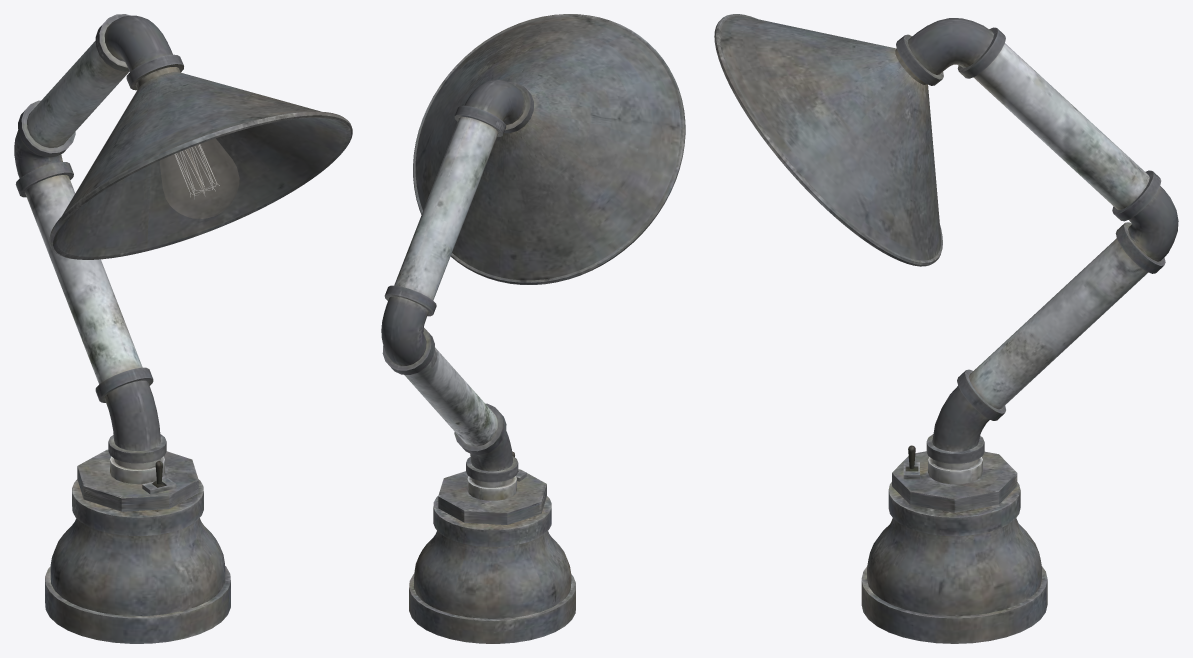
File: pipe-lamp.glb
3 renders of one model, left to right at view 1: azimuth 30°, elevation 25°; view 2: azimuth 150°, elevation 25°; view 3: azimuth 270°, elevation 25°, orthographic. The views are drawn at different scales.
Visible parts, largest first — view 1: industrial_pipe_lamp, industrial_pipe_lamp_bulb; view 2: industrial_pipe_lamp; view 3: industrial_pipe_lamp.
Part boxes in pixels (<box>): industrial_pipe_lamp: <box>14,14,352,643</box>; industrial_pipe_lamp_bulb: <box>160,138,239,218</box>; industrial_pipe_lamp: <box>381,14,685,643</box>; industrial_pipe_lamp: <box>714,14,1178,643</box>.
Bounding box in the file's own units: 0.183 × 0.3641 × 0.2621.
Materials: 2 (2 with a texture image).
